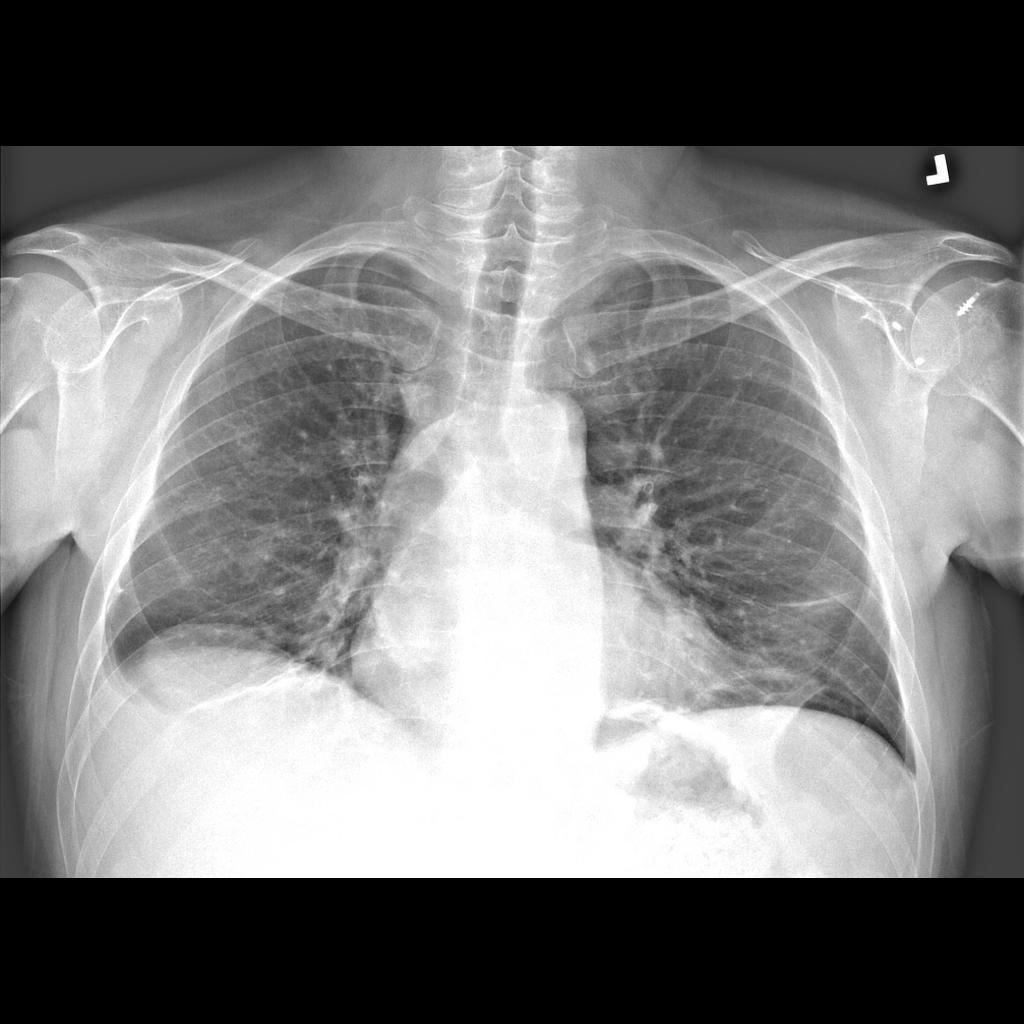Nodule: (226, 521, 289, 584)
